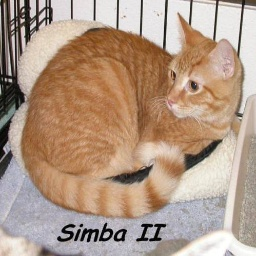cat: (29, 17, 243, 210)
